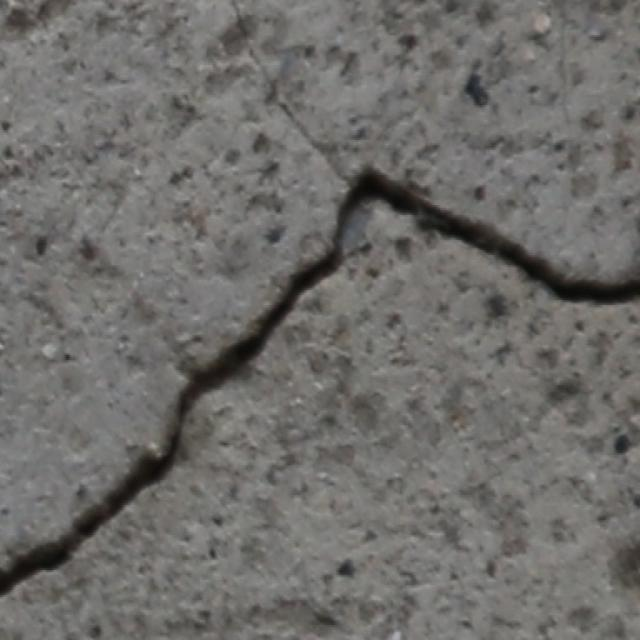Turtle-shell patterned: (3, 0, 640, 640)
